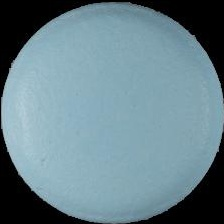0245-0040: (0, 0, 224, 224)
